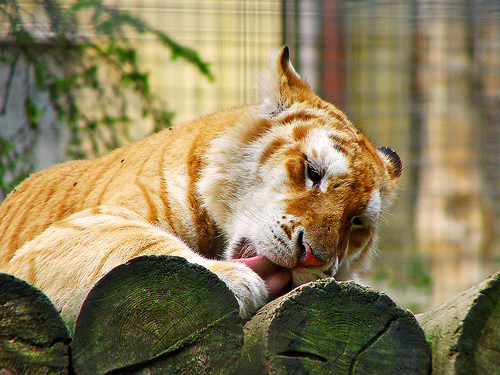Tigre: (25, 108, 411, 317)
